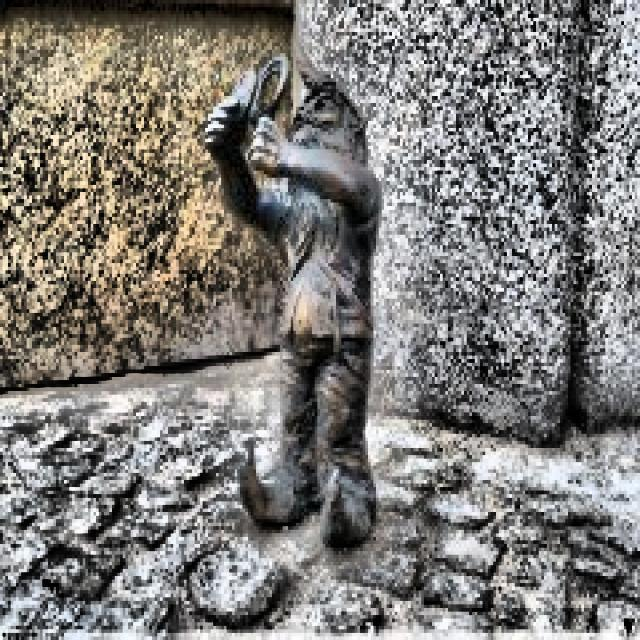Kolekcjoner: (205, 57, 381, 546)
